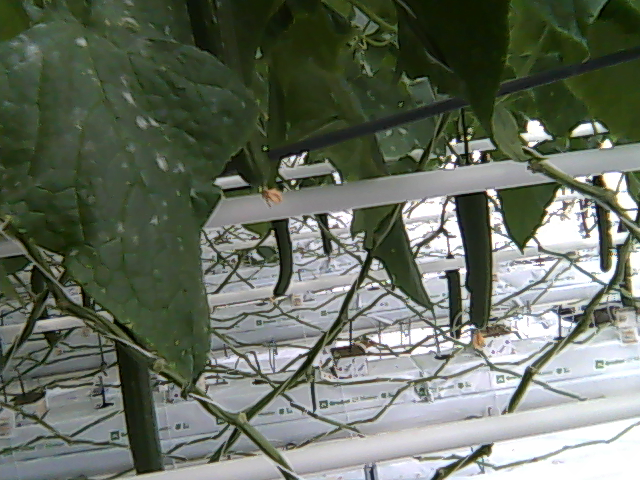concombre: (181, 1, 285, 211)
